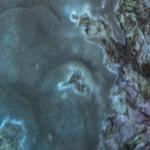dead: (22, 13, 142, 140)
